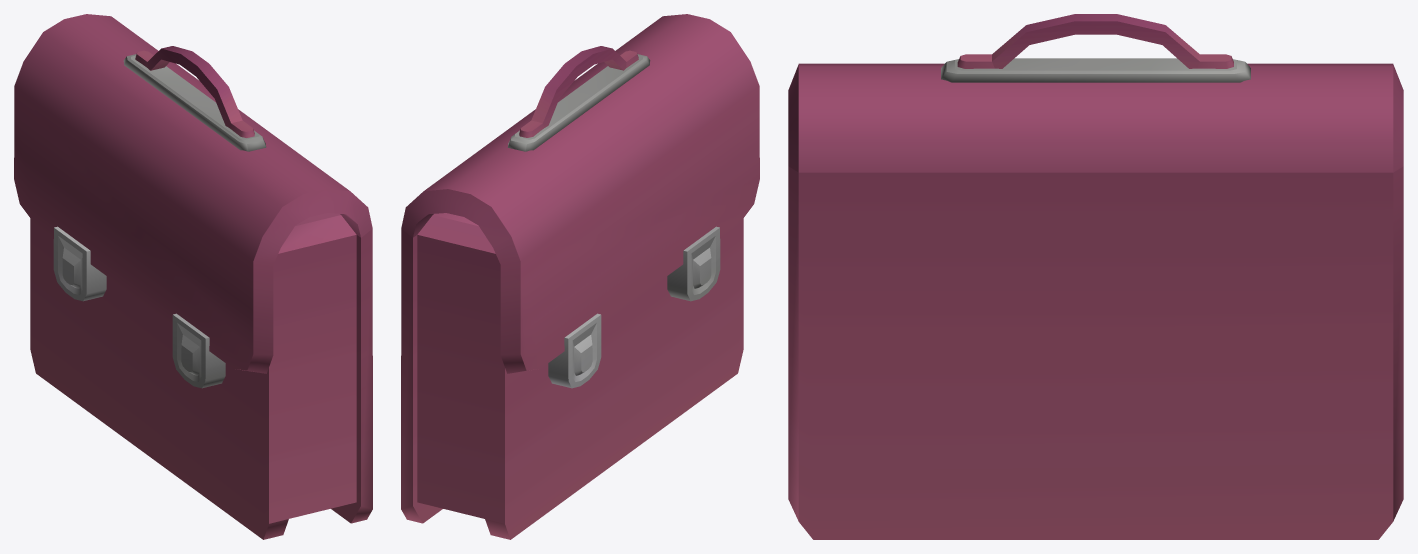
Rendered from Suitcase_1_1_E.fbx.
3 views of the same model, side by side, from view 1: azimuth 30°, elevation 25°; view 2: azimuth 150°, elevation 25°; view 3: azimuth 270°, elevation 25° (orthographic). The views are drawn at different scales.
Visible parts, largest first — view 1: Suitcase_1_1_E; view 2: Suitcase_1_1_E; view 3: Suitcase_1_1_E.
Boxes of the visible parts, x1,y1,x2,y2 form: Suitcase_1_1_E: [14, 14, 372, 539]; Suitcase_1_1_E: [401, 14, 759, 539]; Suitcase_1_1_E: [788, 14, 1403, 539].
Size of the model in its own units: 16.04 by 47.79 by 54.73.
